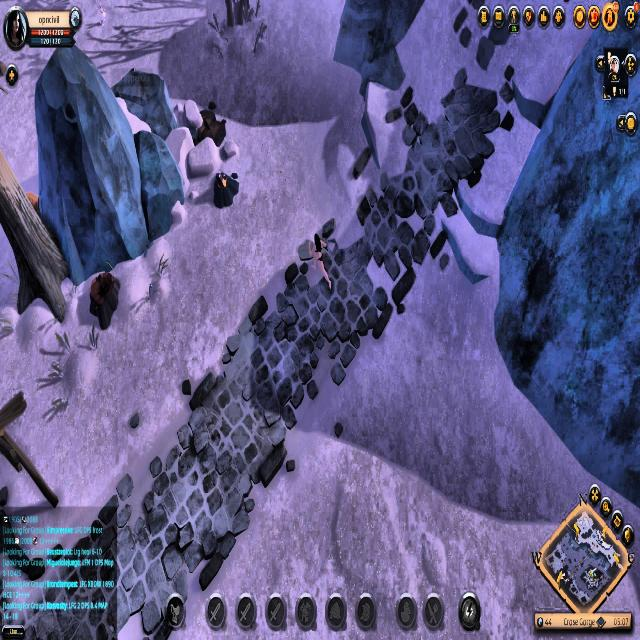copper_ore: (209, 164, 241, 211)
